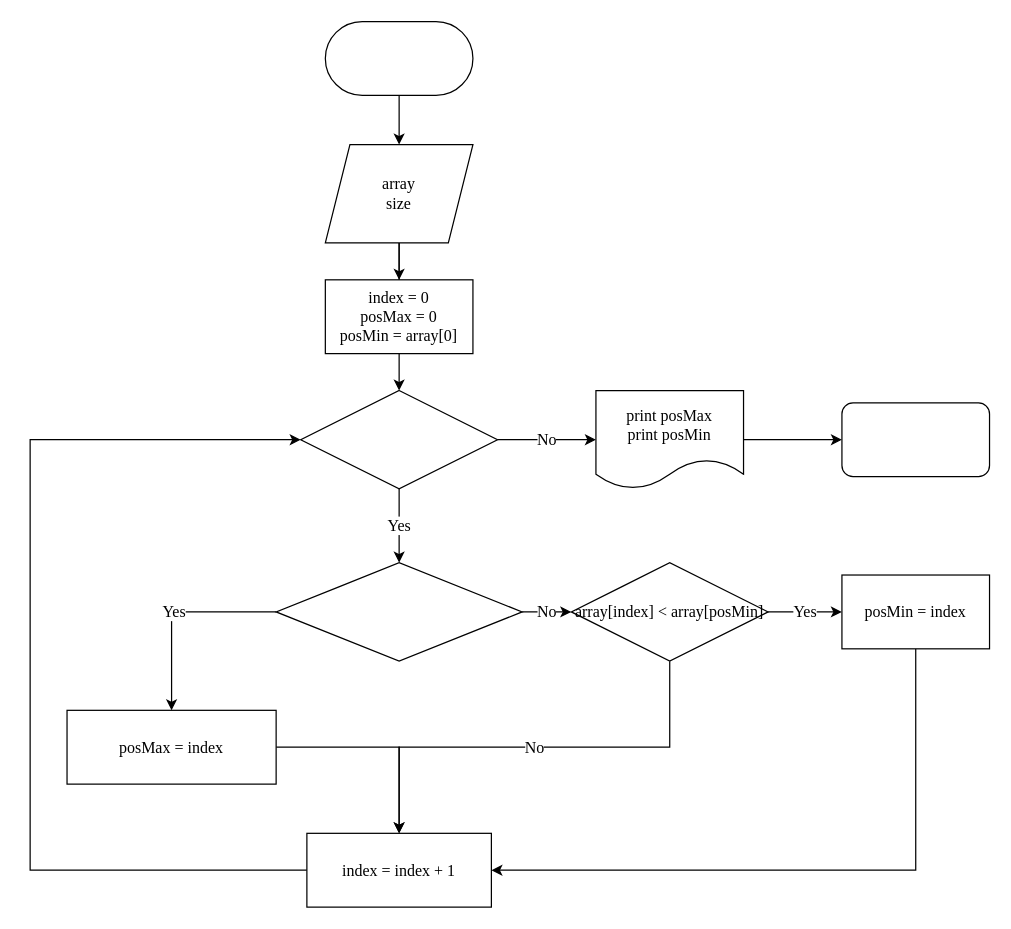
Some shapes in this 1011 by 929 pixel diagram are drawn without their labels. The centre of each missing label's shape, as x and y in pixels:
"array[index] > array[posMax]" goes at (x=398, y=611).
"end" goes at (x=915, y=439).
"index<size" goes at (x=399, y=439).
"Start" goes at (x=398, y=57).
